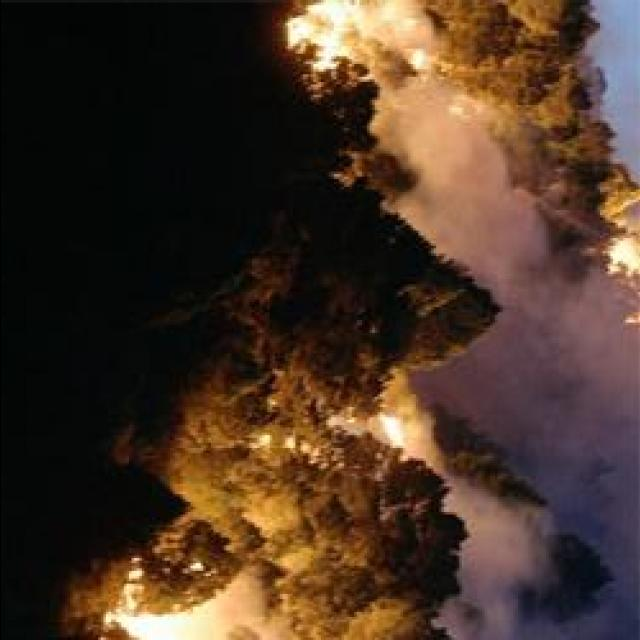fire: (286, 10, 344, 70), (608, 237, 640, 270), (128, 612, 155, 640)
smoke: (418, 146, 523, 248), (563, 275, 639, 415), (490, 206, 570, 333), (385, 78, 499, 162), (466, 348, 562, 432), (470, 503, 550, 588), (448, 594, 538, 640), (356, 0, 432, 51), (170, 608, 275, 640), (406, 404, 437, 462)
